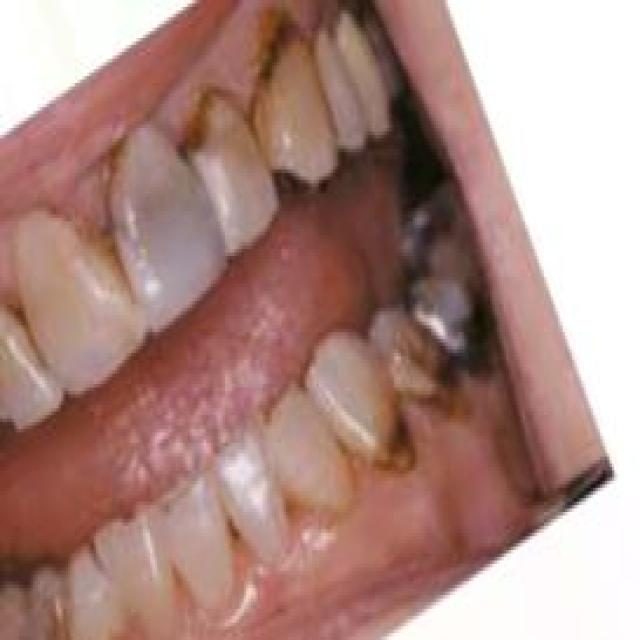caries: (368, 399, 422, 485), (252, 9, 302, 86)
